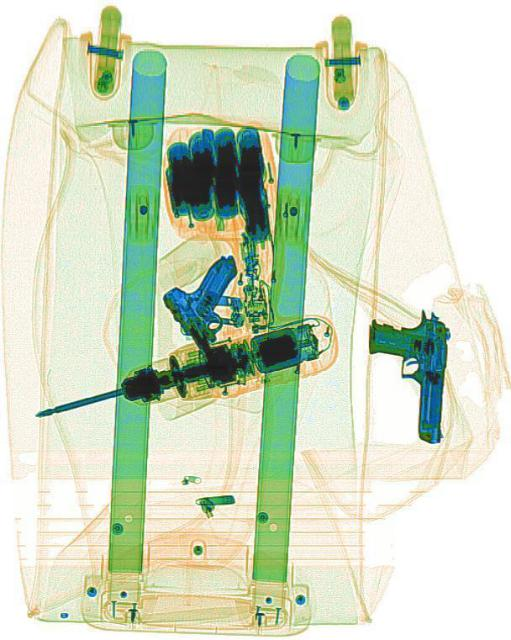Gun: (154, 236, 273, 370), (359, 305, 449, 443)
